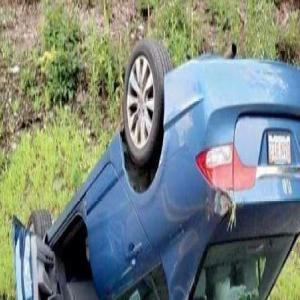critical: (8, 29, 300, 299)
